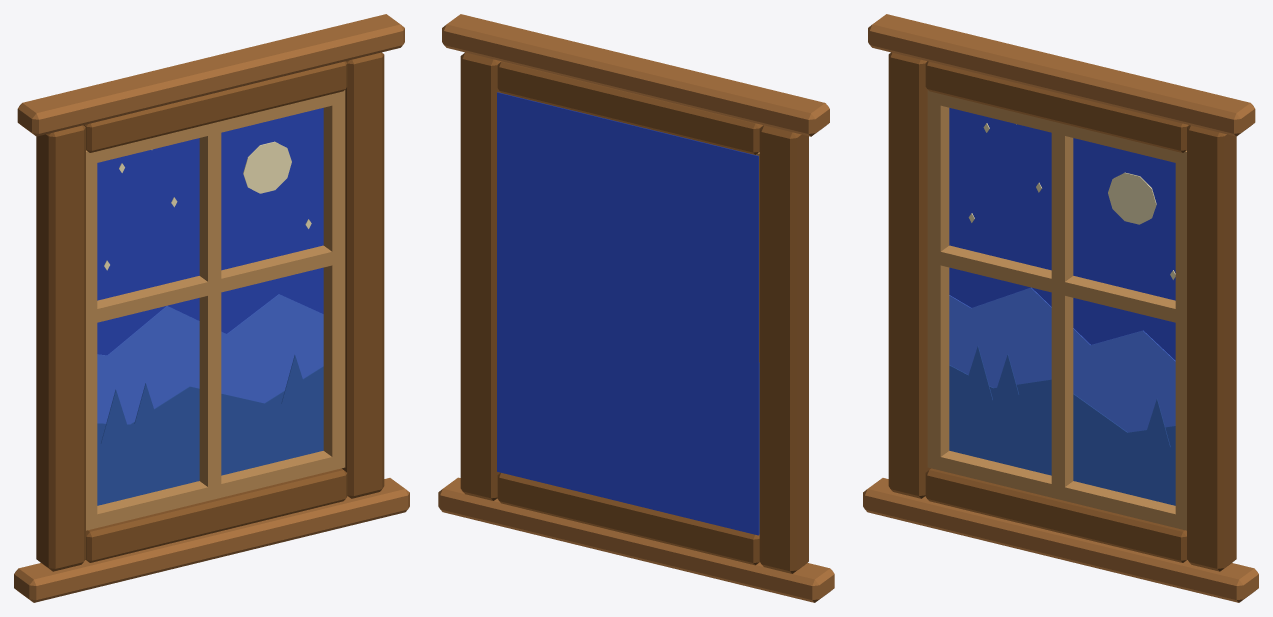
Rendered from Prop_Window.fbx.
3 renders of one model, left to right at view 1: azimuth 30°, elevation 25°; view 2: azimuth 150°, elevation 25°; view 3: azimuth 330°, elevation 25°, orthographic.
Visible parts, largest first — view 1: Prop_Window; view 2: Prop_Window; view 3: Prop_Window.
Boxes of the visible parts, x1,y1,x2,y2 form: Prop_Window: (14,14,409,602); Prop_Window: (438,14,834,602); Prop_Window: (863,14,1258,602).
Size of the model in its own units: 1.02 by 1.25 by 0.095.
